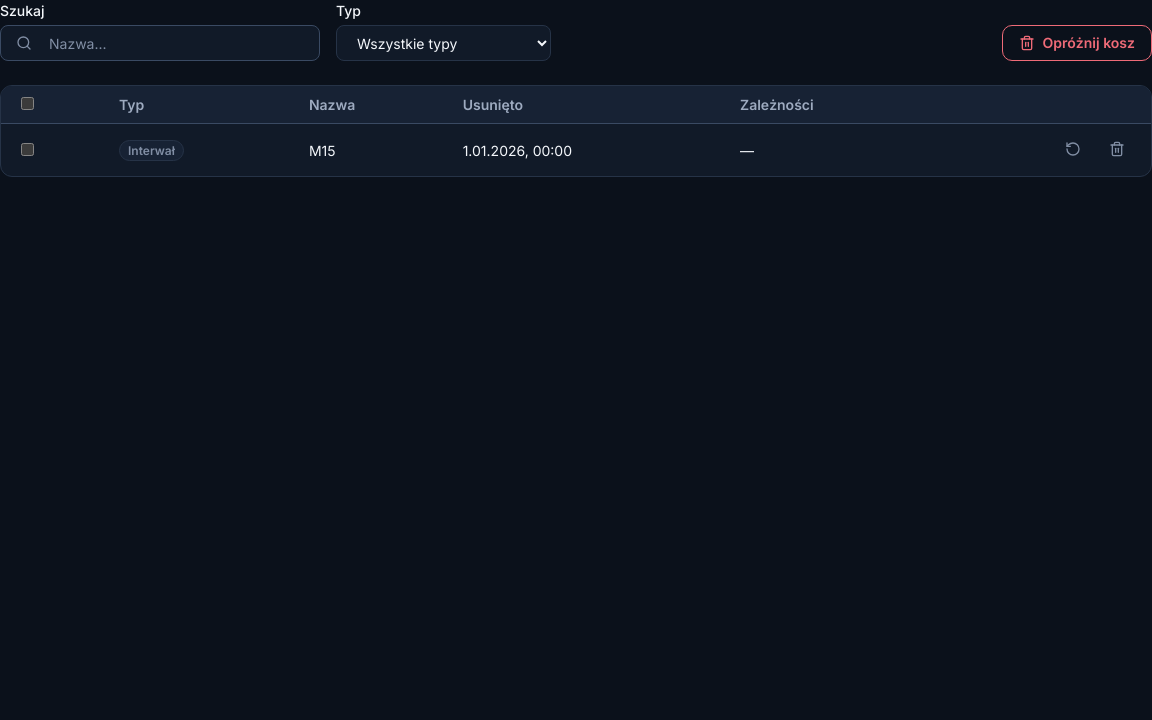
Test: KoszPage › konflikt nazwy interwału proponuje DRUGĄ nazwę z komunikatu (wolną), nie pierwszą (zajętą)
The image size is (1152, 720).
Check: the text "M15" is shown, box [293,124,447,176]
Click the button named "Przywróć M15" at x=1073, y=150, box [1055,132,1091,168]
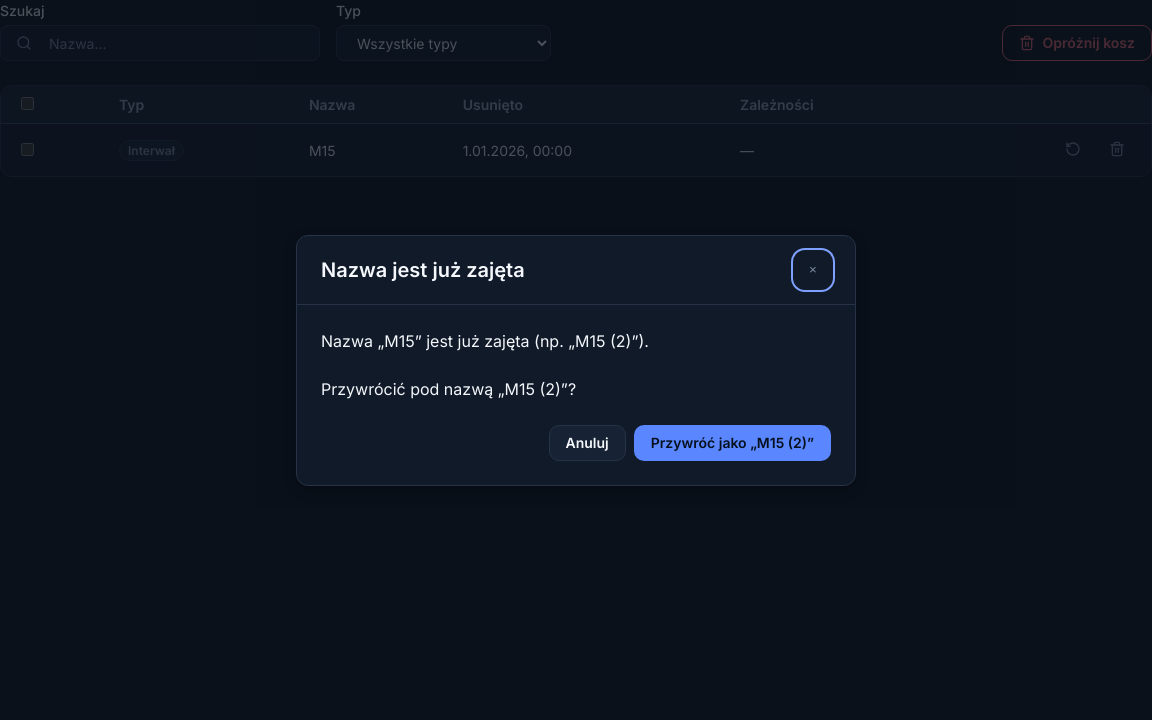
Check: the button "Przywróć jako „M15 (2)”" is shown, box [634,424,831,460]
